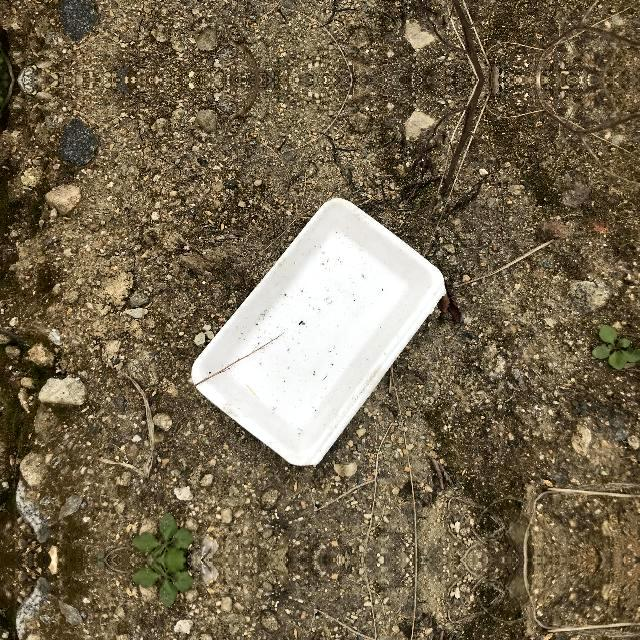Styrofoam: (188, 196, 446, 468), (191, 198, 446, 466)
